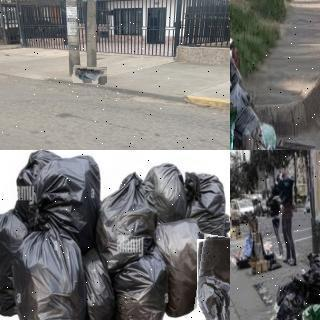Garbage: (12, 227, 83, 320), (97, 172, 156, 271), (35, 154, 100, 240), (155, 220, 203, 316), (112, 250, 168, 320), (184, 171, 227, 244), (193, 236, 230, 320), (0, 209, 28, 317), (143, 162, 188, 220), (230, 83, 265, 150), (80, 247, 112, 320), (305, 250, 320, 316), (277, 291, 306, 320), (73, 66, 107, 84)
